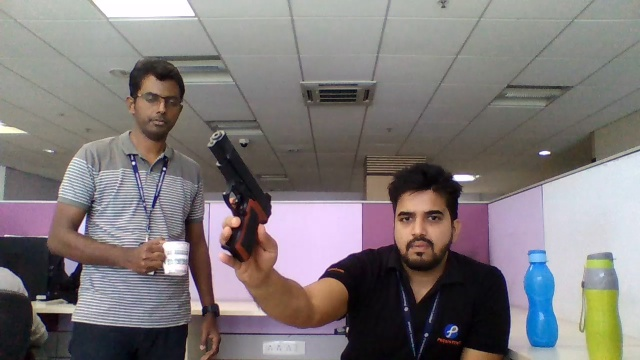gun: (206, 129, 275, 262)
